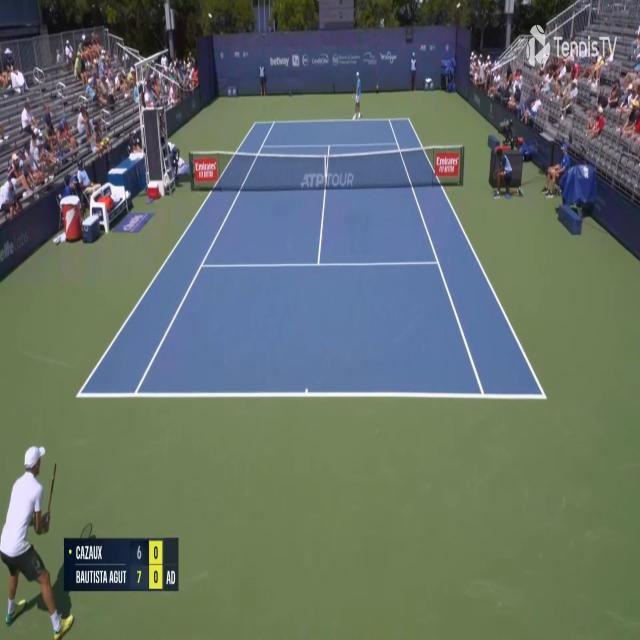tennis-player: (0, 440, 73, 639), (352, 69, 363, 124)
